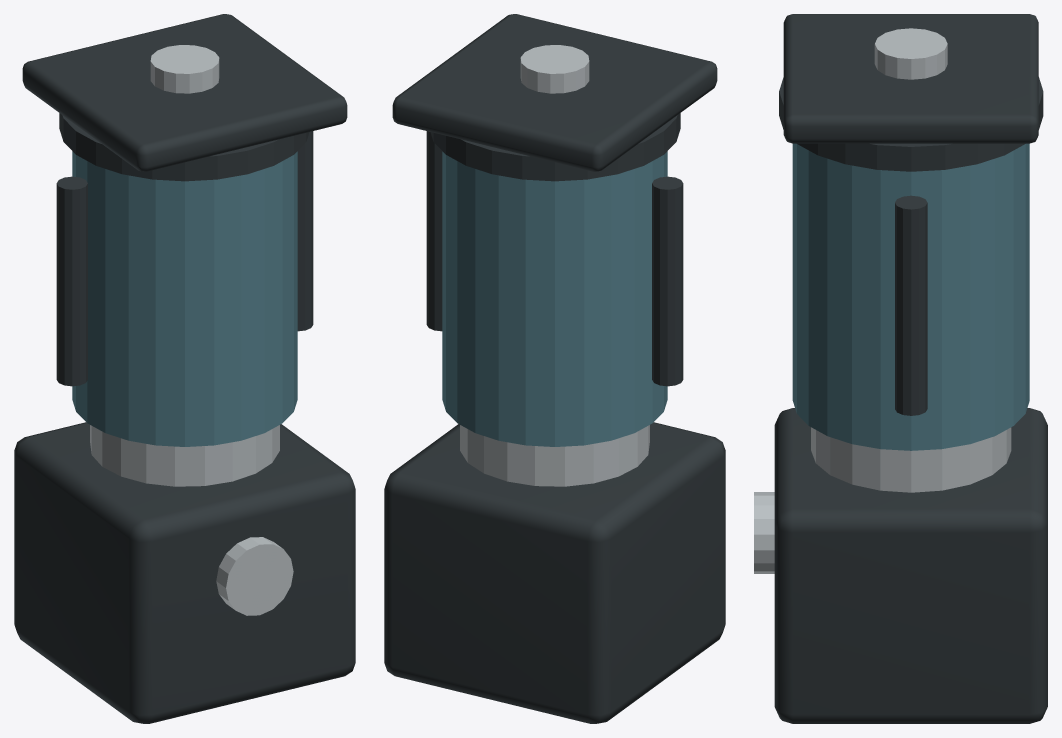
Rendered from blender_black.glb.
The picture shows the model from 3 angles, left to right: view 1: azimuth 30°, elevation 25°; view 2: azimuth 150°, elevation 25°; view 3: azimuth 270°, elevation 25°; orthographic projection. The views are drawn at different scales.
Parts seen in each view (by area): view 1: motor base, jug, lid, jug foot, jug handle, jug rim, speed dial, jug handle.001, lid cap; view 2: motor base, jug, lid, jug foot, jug handle, jug rim, jug handle.001, lid cap; view 3: motor base, jug, lid, jug foot, jug handle.001, jug rim, lid cap, speed dial.
Boxes of the visible parts, x1=… form: motor base: x1=14, y1=422, x2=355, y2=723; jug: x1=72, y1=151, x2=297, y2=446; lid: x1=22, y1=14, x2=347, y2=171; jug foot: x1=90, y1=425, x2=279, y2=486; jug handle: x1=56, y1=176, x2=87, y2=386; jug rim: x1=59, y1=113, x2=309, y2=181; speed dial: x1=216, y1=537, x2=293, y2=615; jug handle.001: x1=297, y1=131, x2=313, y2=331; lid cap: x1=150, y1=45, x2=219, y2=93; motor base: x1=384, y1=422, x2=725, y2=723; jug: x1=442, y1=151, x2=667, y2=446; lid: x1=392, y1=14, x2=717, y2=171; jug foot: x1=460, y1=425, x2=649, y2=486; jug handle: x1=652, y1=176, x2=683, y2=386; jug rim: x1=430, y1=113, x2=680, y2=181; jug handle.001: x1=426, y1=131, x2=442, y2=331; lid cap: x1=520, y1=45, x2=589, y2=93; motor base: x1=774, y1=408, x2=1047, y2=723; jug: x1=792, y1=143, x2=1029, y2=450; lid: x1=783, y1=14, x2=1038, y2=143; jug foot: x1=811, y1=427, x2=1011, y2=492; jug handle.001: x1=895, y1=195, x2=927, y2=415; jug rim: x1=779, y1=77, x2=1043, y2=171; lid cap: x1=874, y1=28, x2=947, y2=79; speed dial: x1=754, y1=492, x2=774, y2=573.
Size of the model in its own units: 0.336 by 0.7625 by 0.3225.
